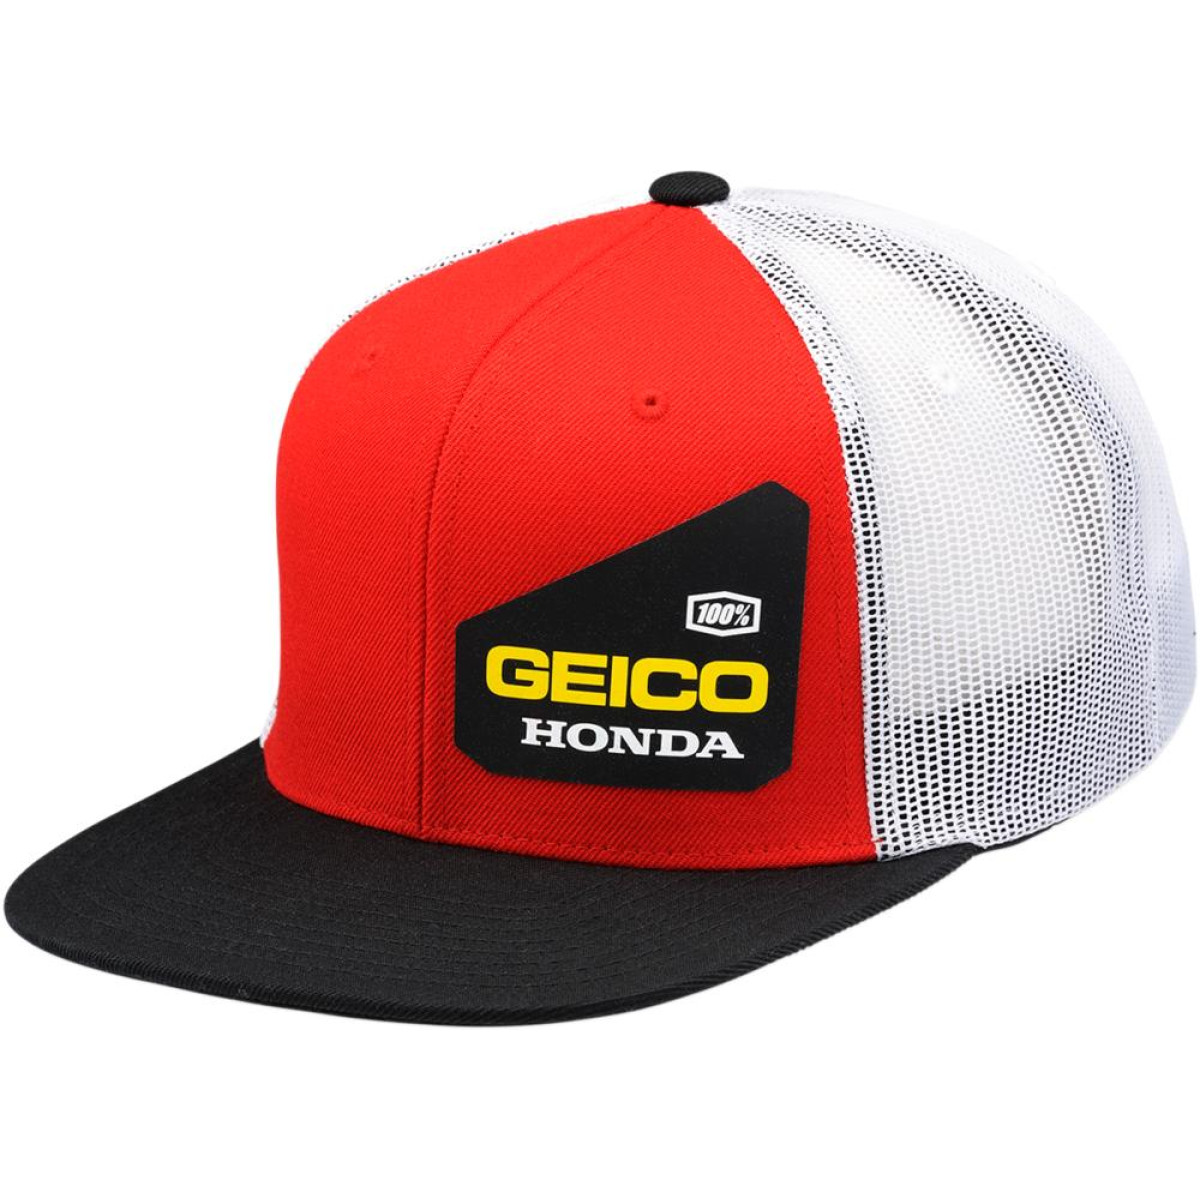Geico: (477, 632, 791, 725)
